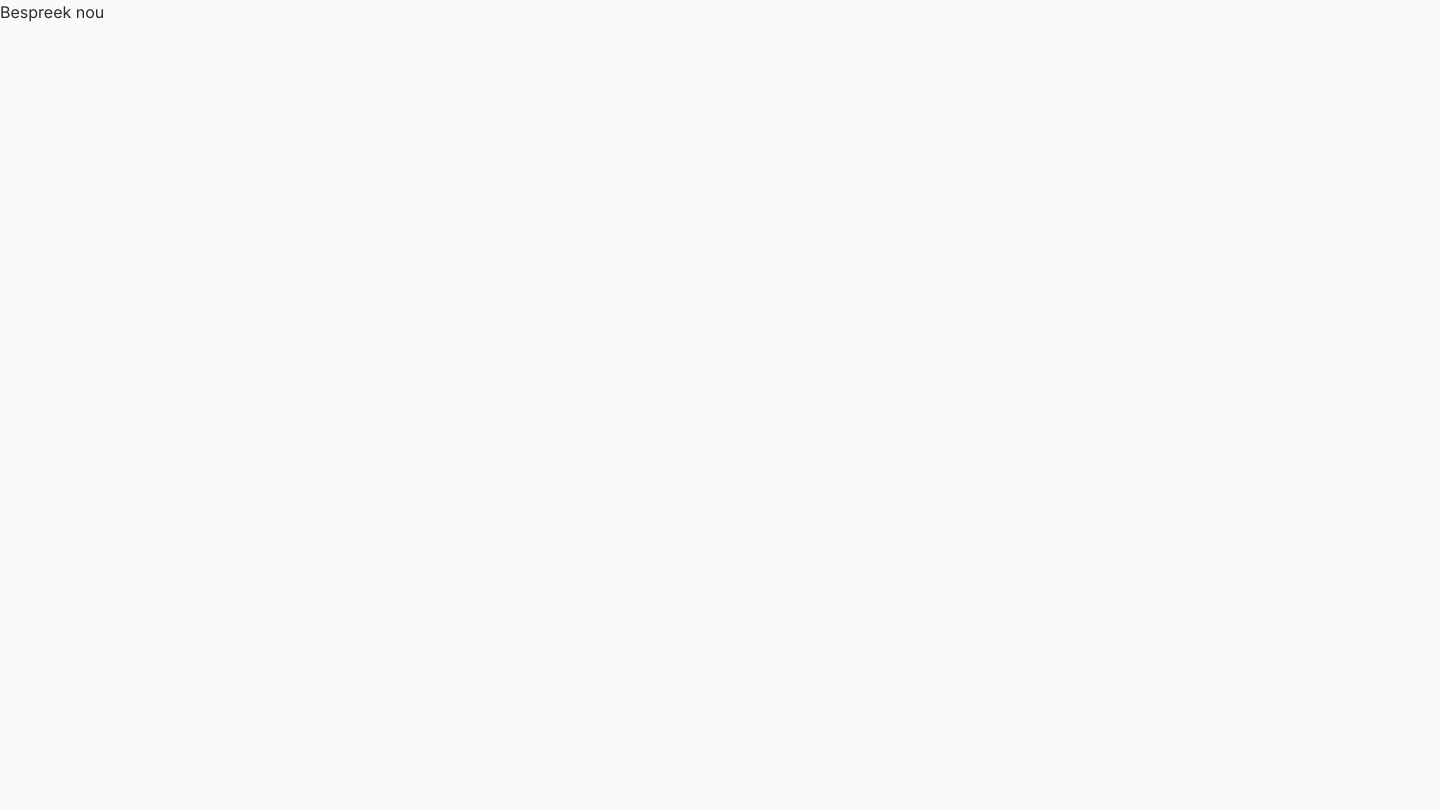
Test: Issue #11: Mobile touch/click event handling › TicketCheckout Bespreek nou button › should open dialog on click event
The image size is (1440, 810).
Click the button "Bespreek nou" at [52, 12], box [0,0,104,24]
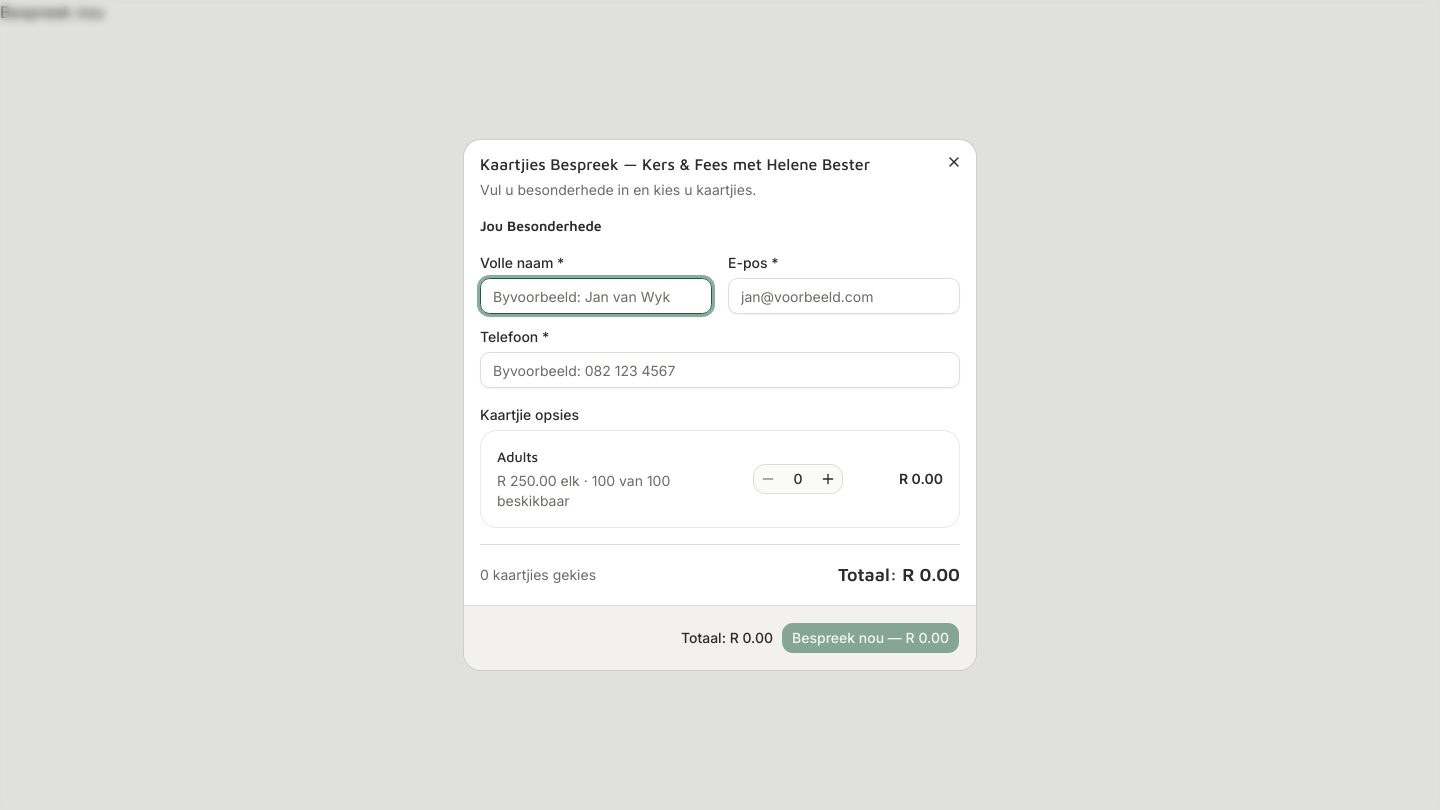
Result: the heading "Kaartjies Bespreek — Kers & Fees met Helene Bester" is shown at [480,155,870,173]
